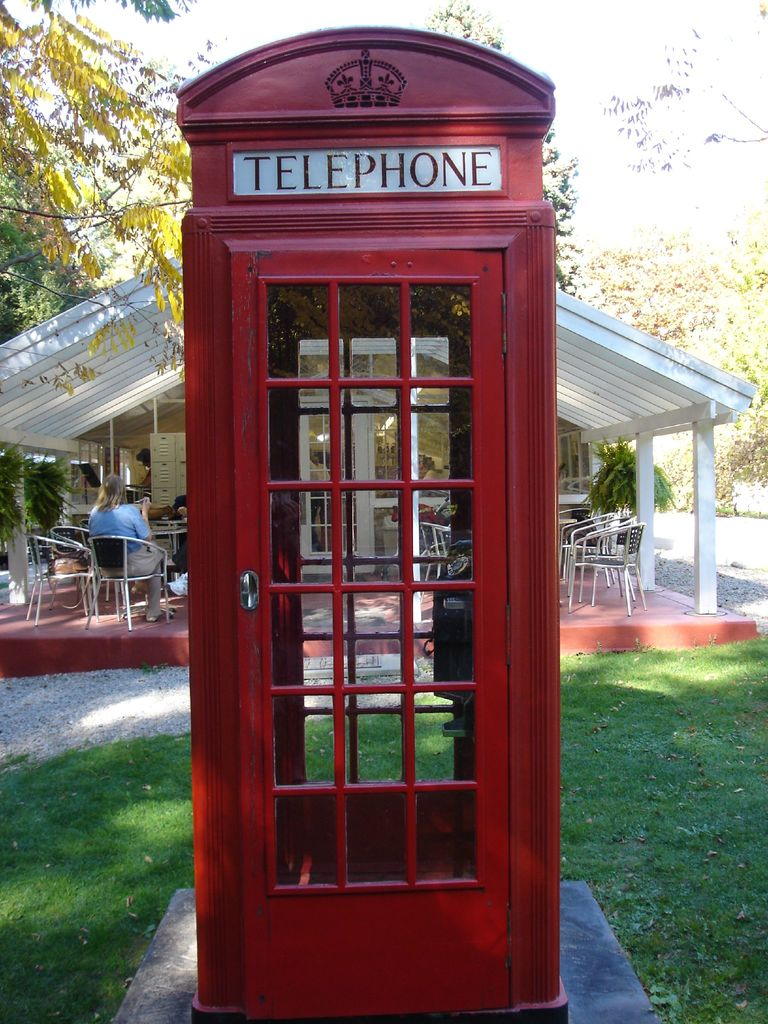door: (233, 252, 509, 1011)
handle: (232, 563, 259, 614)
